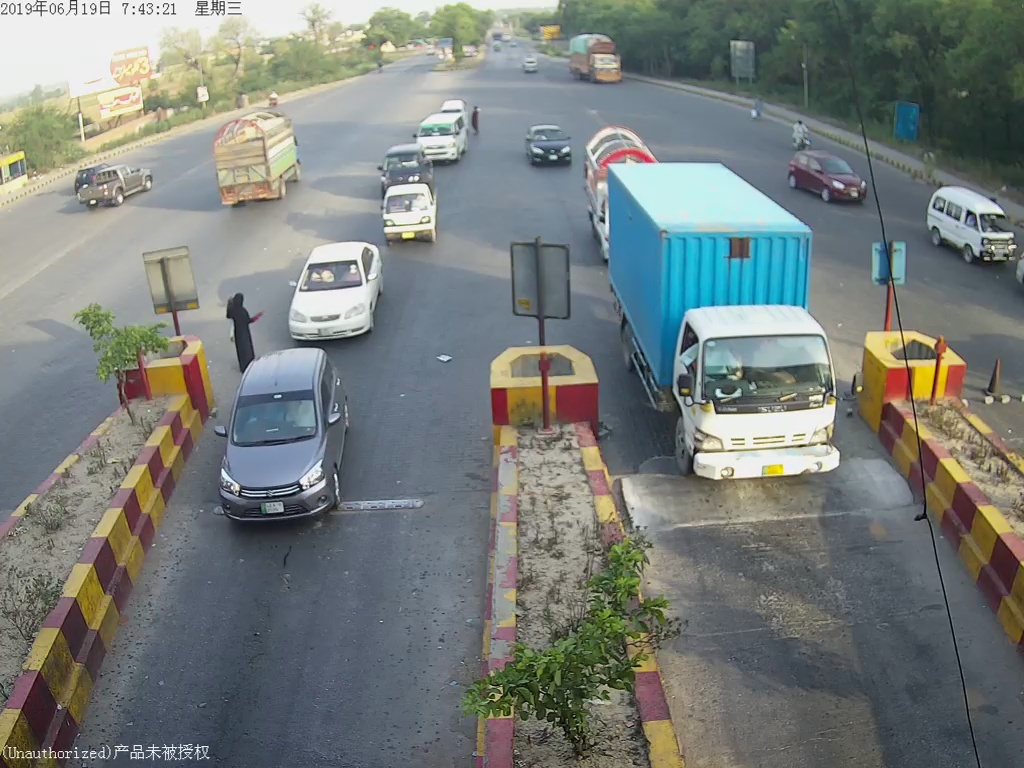Cat-1: (216, 358, 363, 514), (287, 244, 382, 339), (378, 156, 439, 246), (524, 117, 575, 171)
Cat-2: (606, 170, 858, 493), (417, 114, 467, 163)
